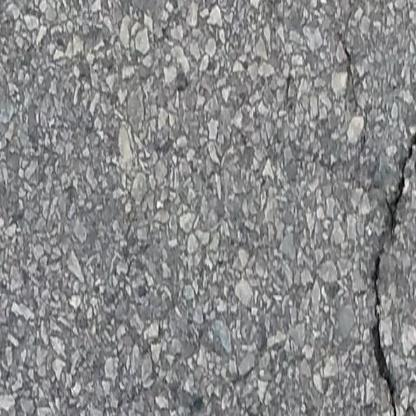Cracks: (334, 82, 416, 416)
